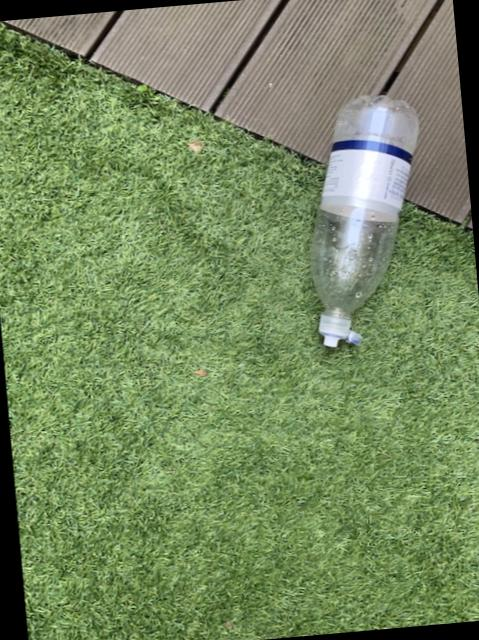plastic: (309, 93, 416, 344)
